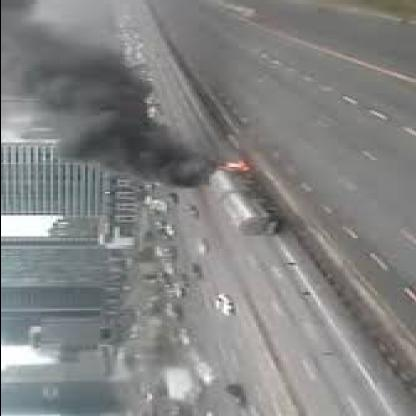Fire: (221, 162, 249, 171)
Smoke: (3, 5, 205, 188)
